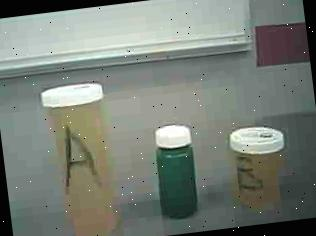Bottle A: (37, 76, 131, 236)
Bottle B: (222, 120, 296, 218)
Bottle C: (146, 118, 205, 226)
